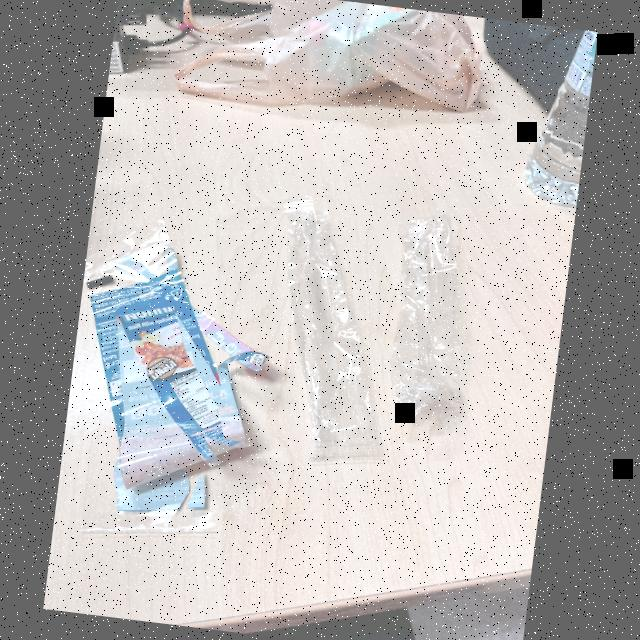scrap_plastic: (54, 211, 282, 543), (244, 194, 402, 466), (374, 192, 484, 434)
